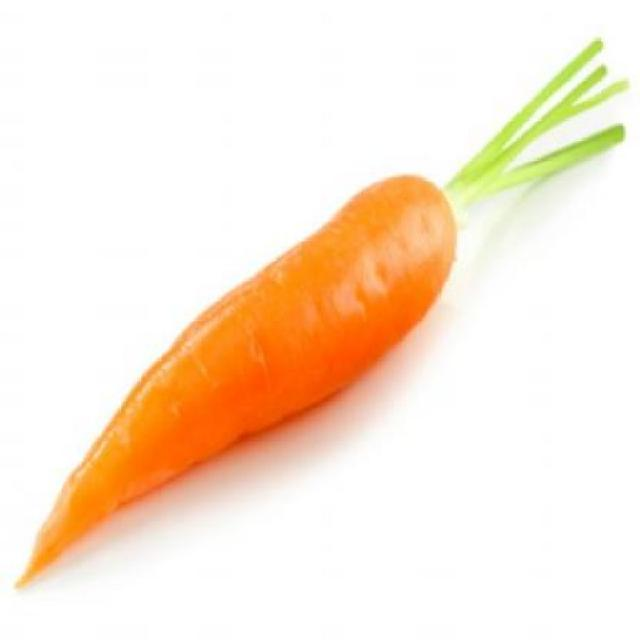carrot: (19, 135, 474, 629)
